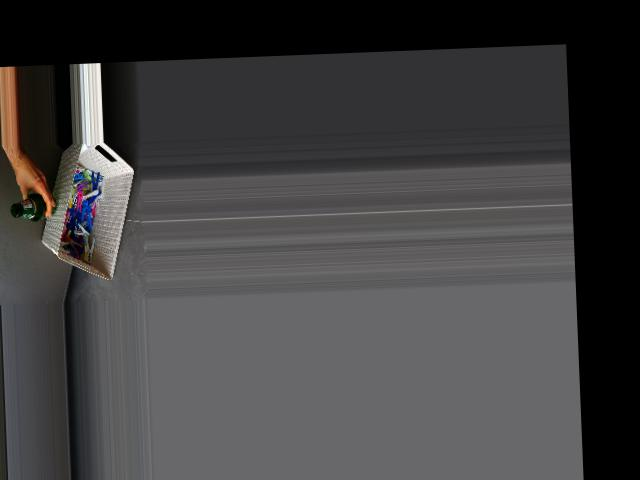beer: (9, 192, 56, 222)
